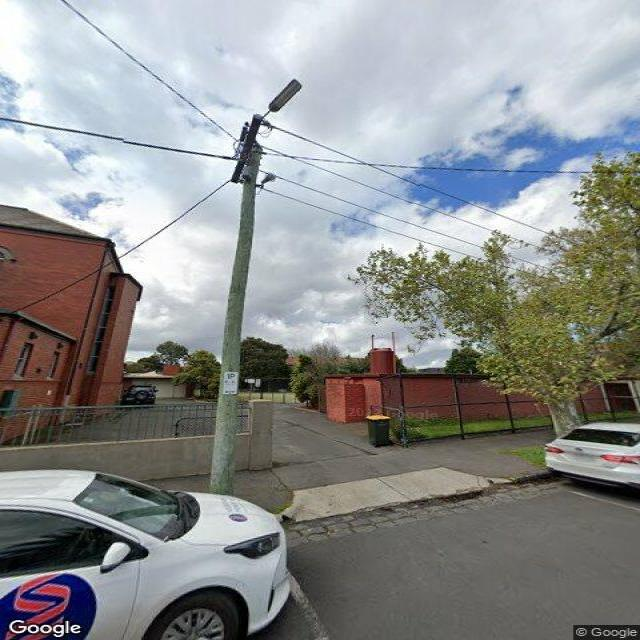crossarm: (228, 112, 266, 184)
streetlight: (258, 77, 303, 124)
timber-pole: (206, 144, 264, 498)
